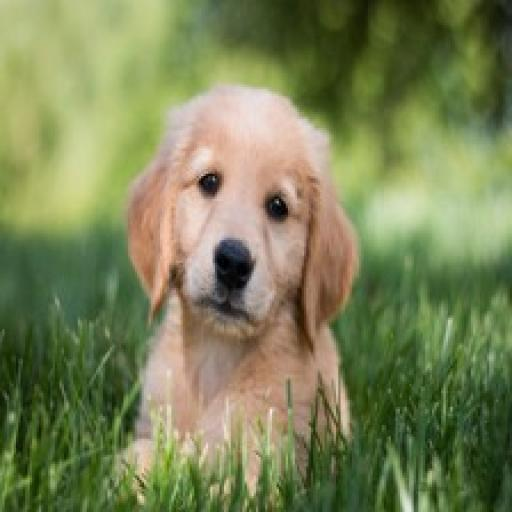dog: (106, 61, 363, 497)
